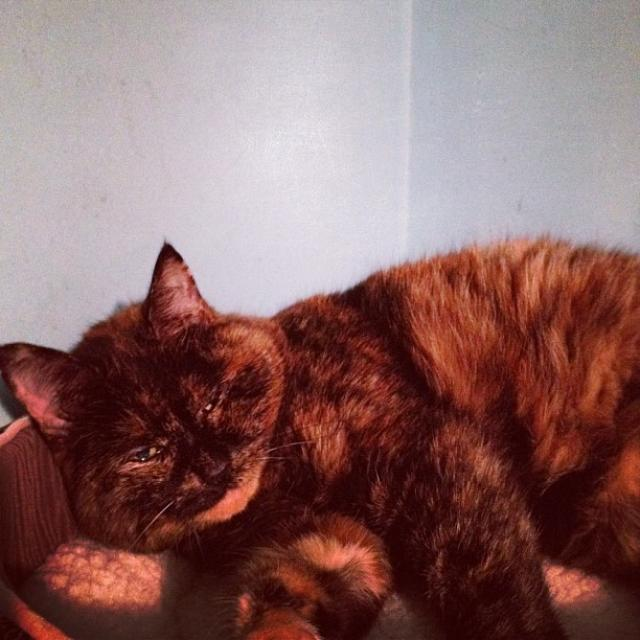cats: (0, 225, 640, 640)
